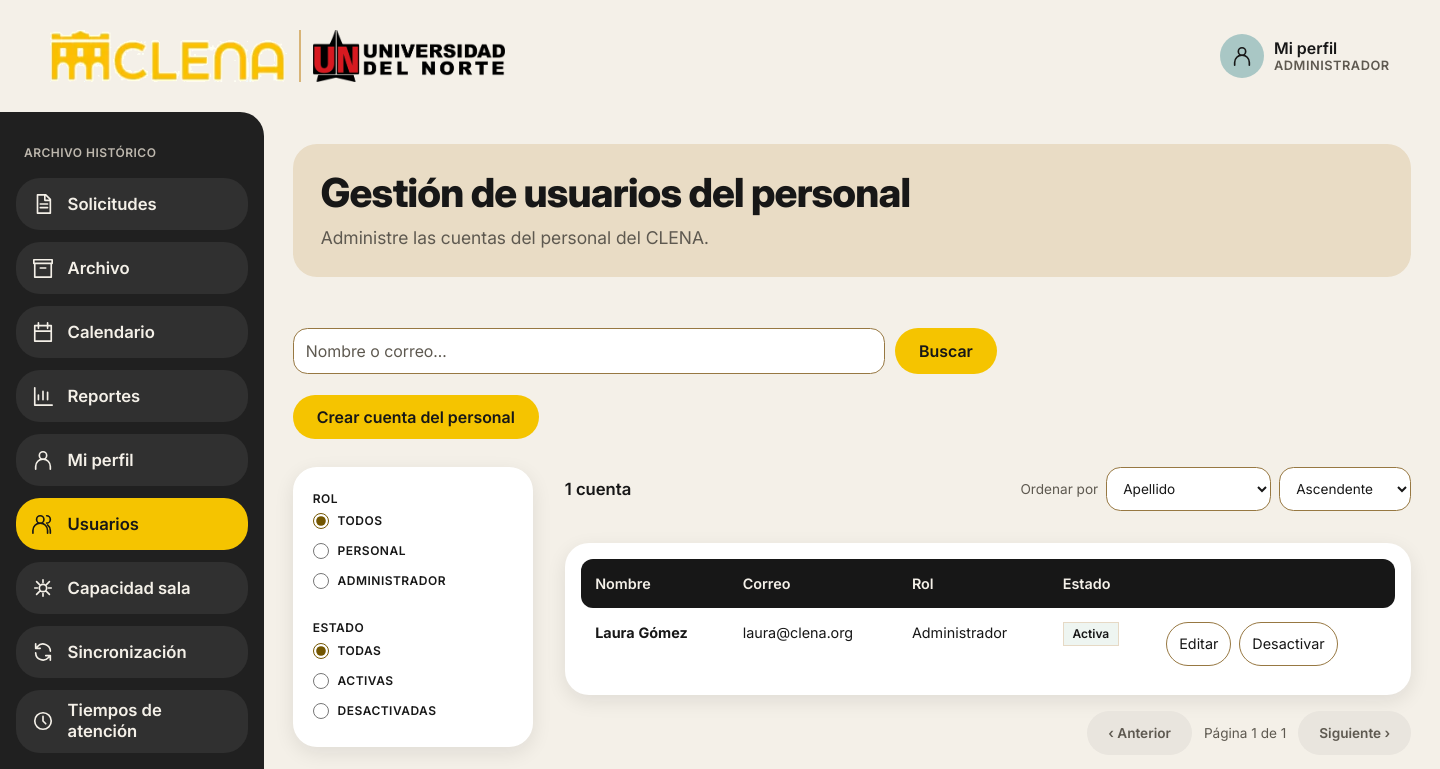
Scenario: StaffUsersPage (HU-05) › shows why the API refuses a deactivation
This screenshot has width=1440, height=769.
Click the button with aria-label "Desactivar la cuenta de Laura Gómez": coordinates (1289, 644) [1239,622,1338,666]
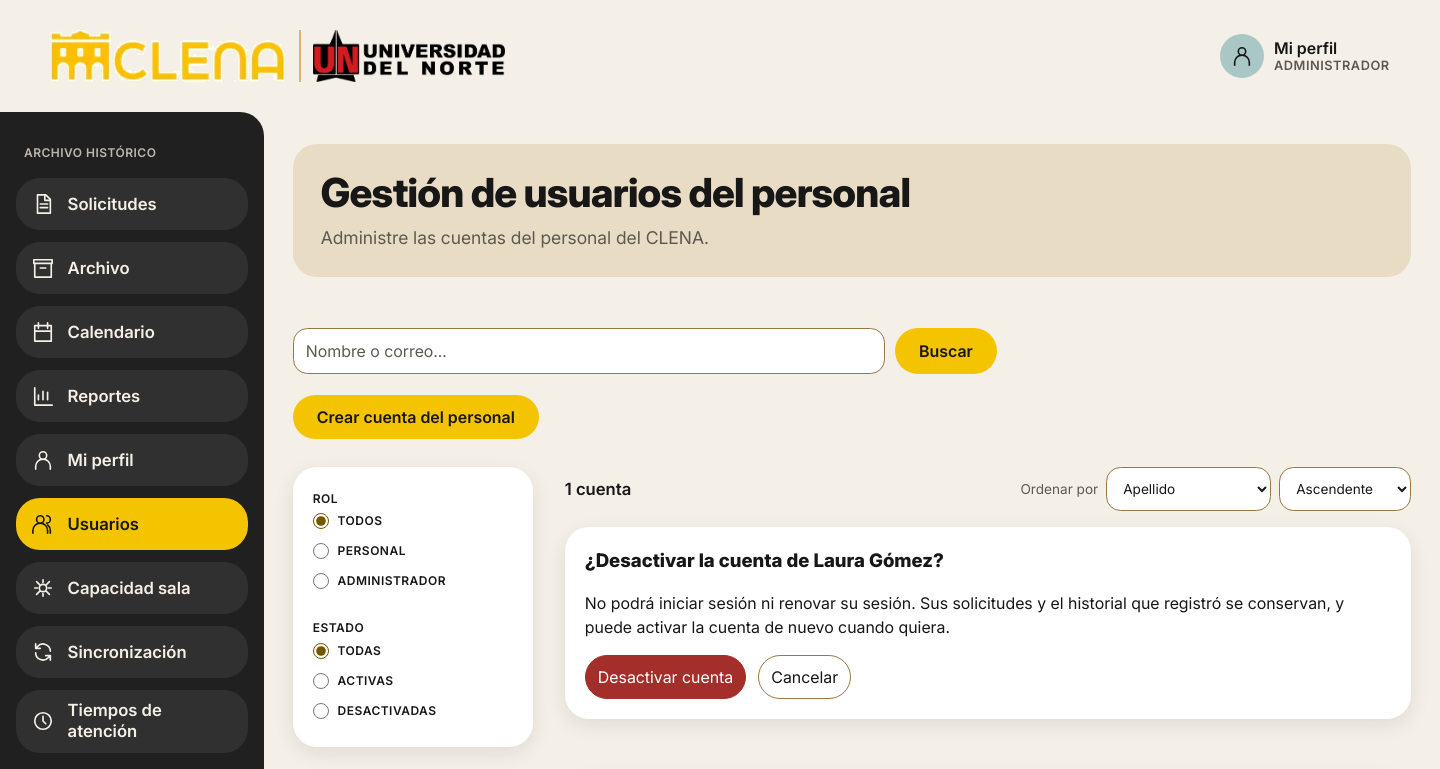
Click the button "Desactivar cuenta": coordinates (666, 677) [585,655,746,699]
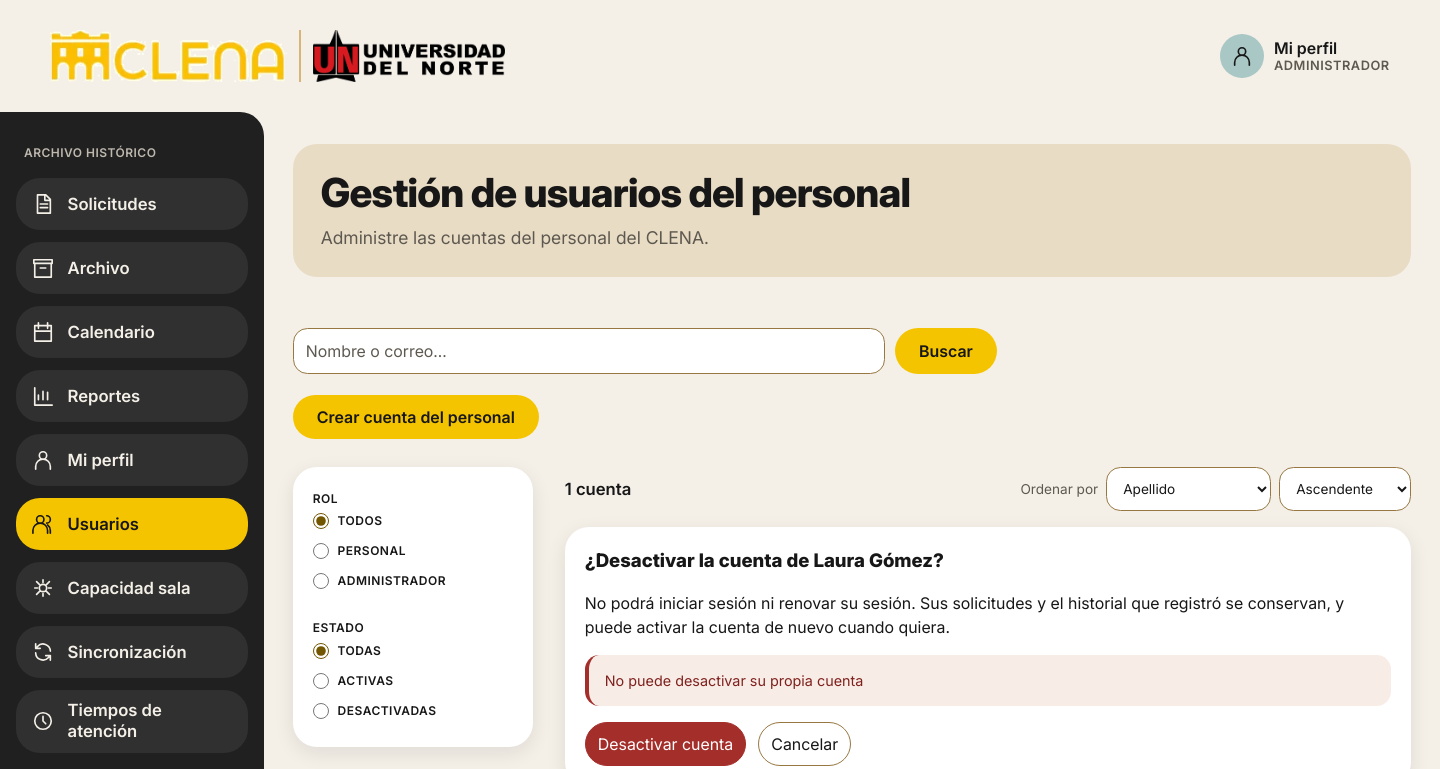
Check: the message reads "No puede desactivar su propia cuenta", box [605,672,863,689]
